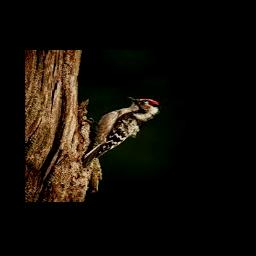Woodpecker: (83, 96, 161, 167)
